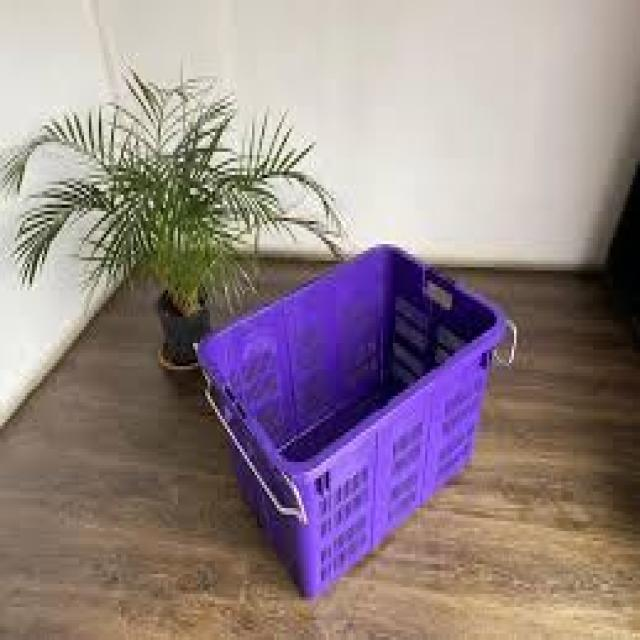basket: (135, 180, 565, 603)
